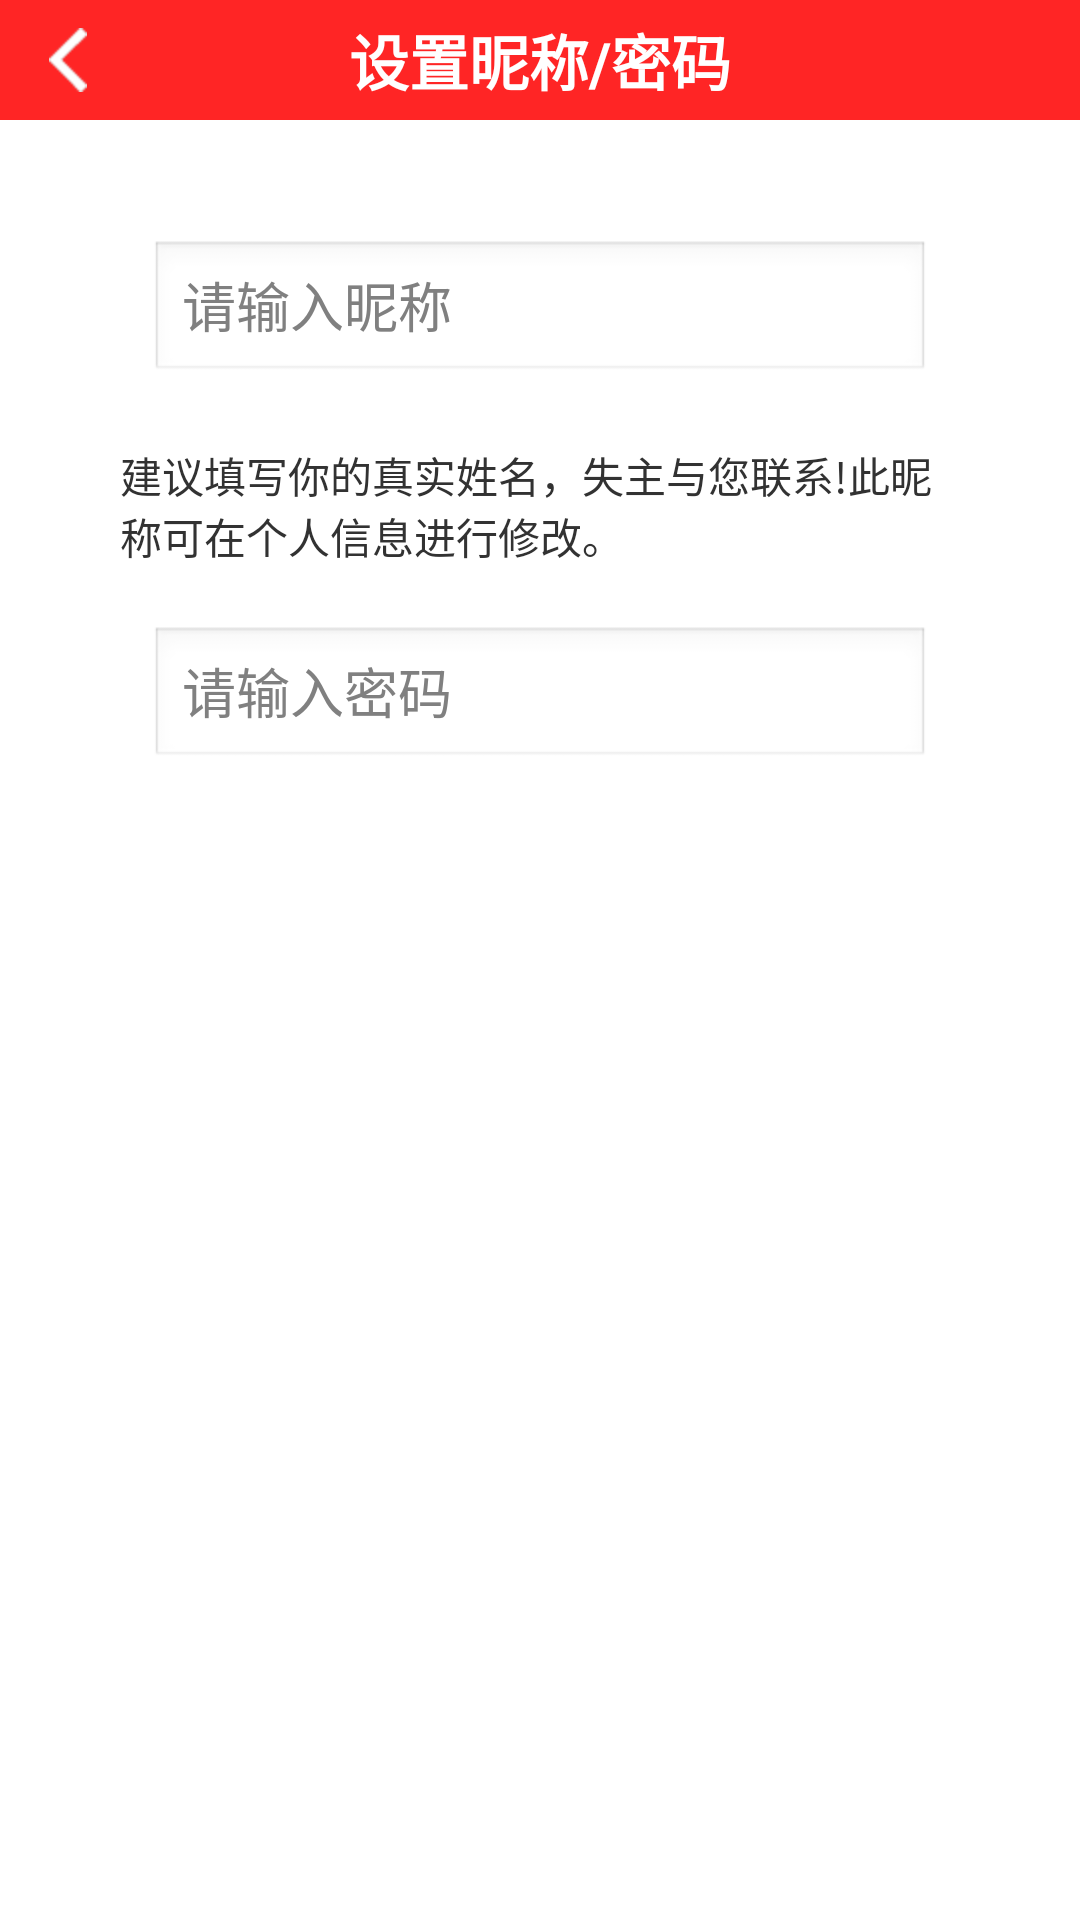

Where icons sit on this 1080px x 1920px app screen, as (x1, y1, x2, y2):
return: (49, 28, 87, 92)
